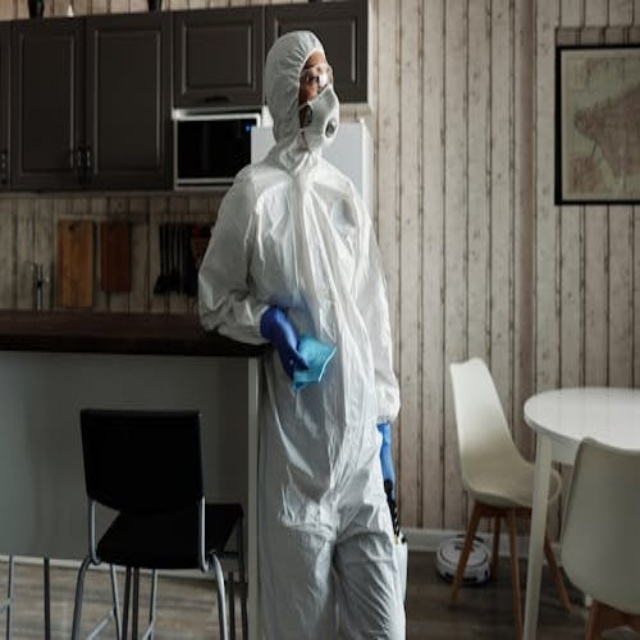Gafas: (301, 68, 333, 89)
Guantes: (261, 297, 307, 381), (376, 420, 401, 498)
Mascara: (299, 85, 338, 147)
